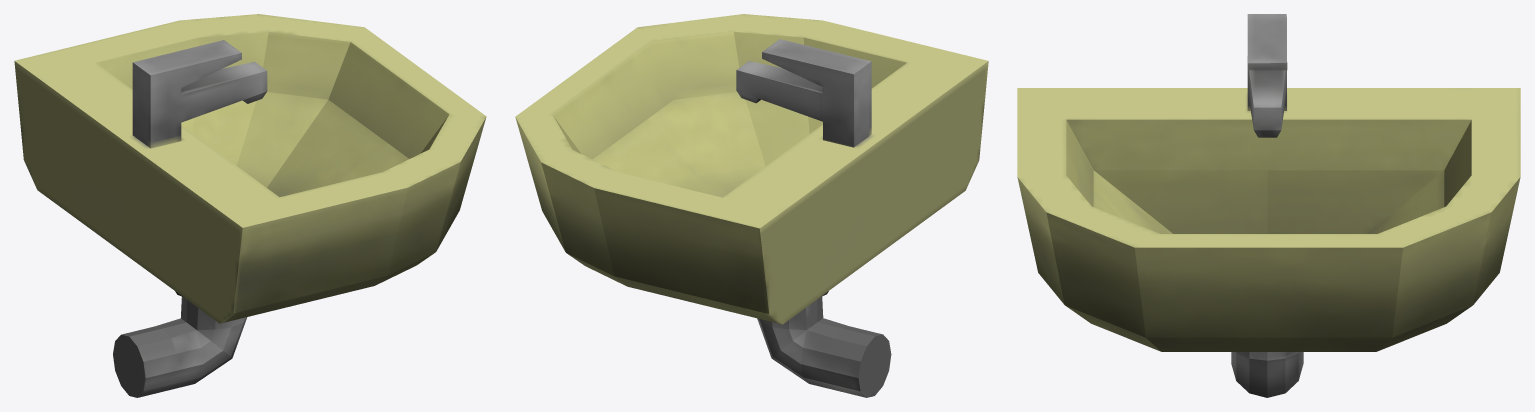
Rendered from sink_grime.fbx.
The picture shows the model from 3 angles, left to right: view 1: azimuth 30°, elevation 25°; view 2: azimuth 150°, elevation 25°; view 3: azimuth 270°, elevation 25°; orthographic projection. The views are drawn at different scales.
Visible parts, largest first — view 1: sink_grime; view 2: sink_grime; view 3: sink_grime.
Part boxes in pixels (left/top/right/bottom): sink_grime: left=14, top=14, right=486, bottom=397; sink_grime: left=515, top=14, right=988, bottom=397; sink_grime: left=1017, top=14, right=1520, bottom=397.
Size of the model in its own units: 0.4507 by 0.47 by 0.6.
1 material, 1 textured.
